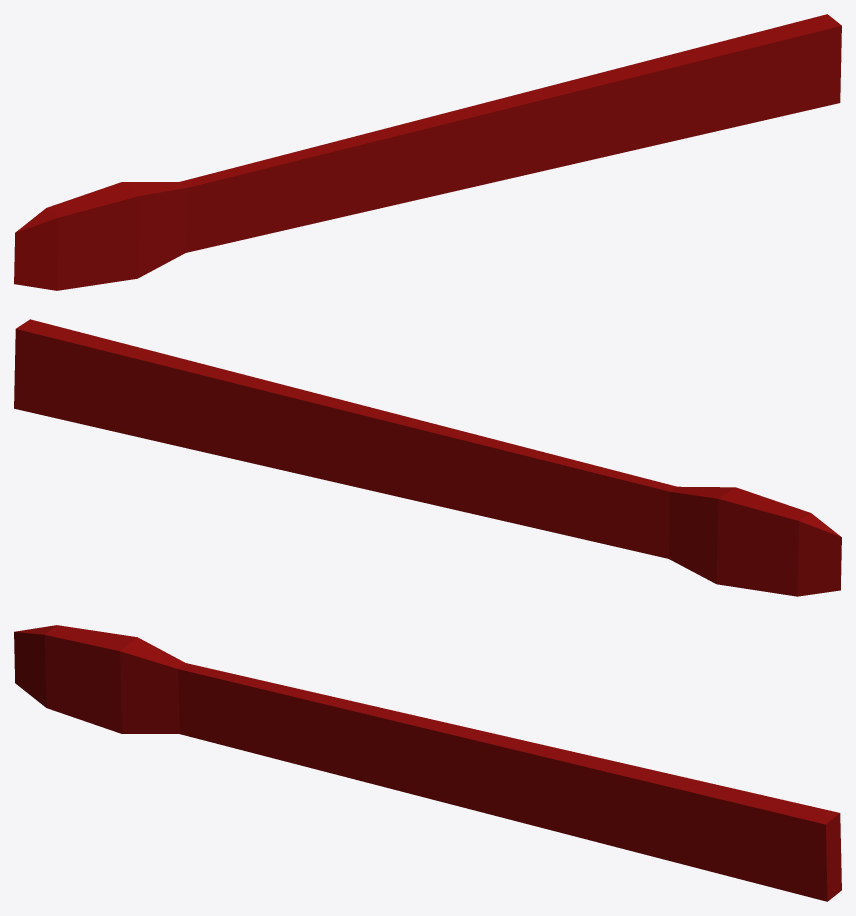
The model's file is blad1.DAE.
3 renders of one model, top to bottom at view 1: azimuth 30°, elevation 25°; view 2: azimuth 150°, elevation 25°; view 3: azimuth 330°, elevation 25°, orthographic.
Parts seen in each view (by area): view 1: blad1; view 2: blad1; view 3: blad1.
Boxes of the visible parts, x1,y1,x2,y2 form: blad1: (14, 14, 841, 290); blad1: (14, 319, 841, 596); blad1: (14, 625, 841, 901).
Bounding box in the file's own units: 164 × 6.69 × 16.29.
